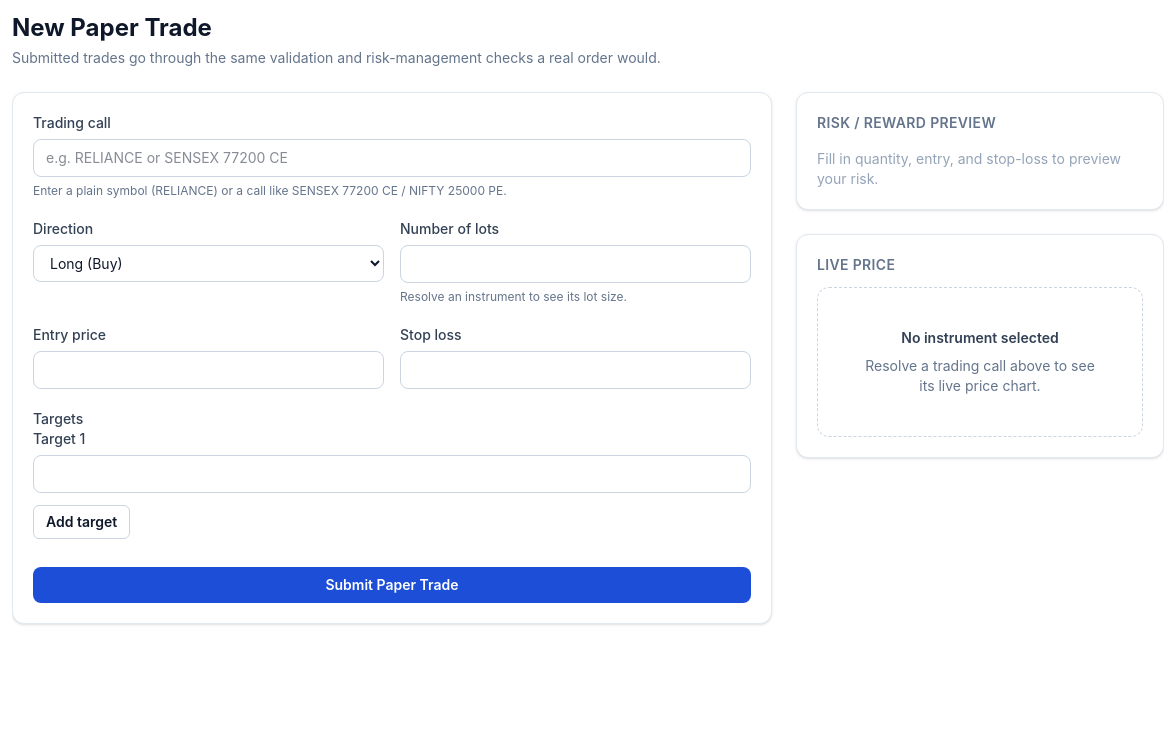
Test case: NewTrade page › shows validation errors and never submits an invalid form
The width and height of the screenshot is (1164, 732).
Click the button "Submit Paper Trade" at (392, 585), box x1=33 y1=567 x2=751 y2=603
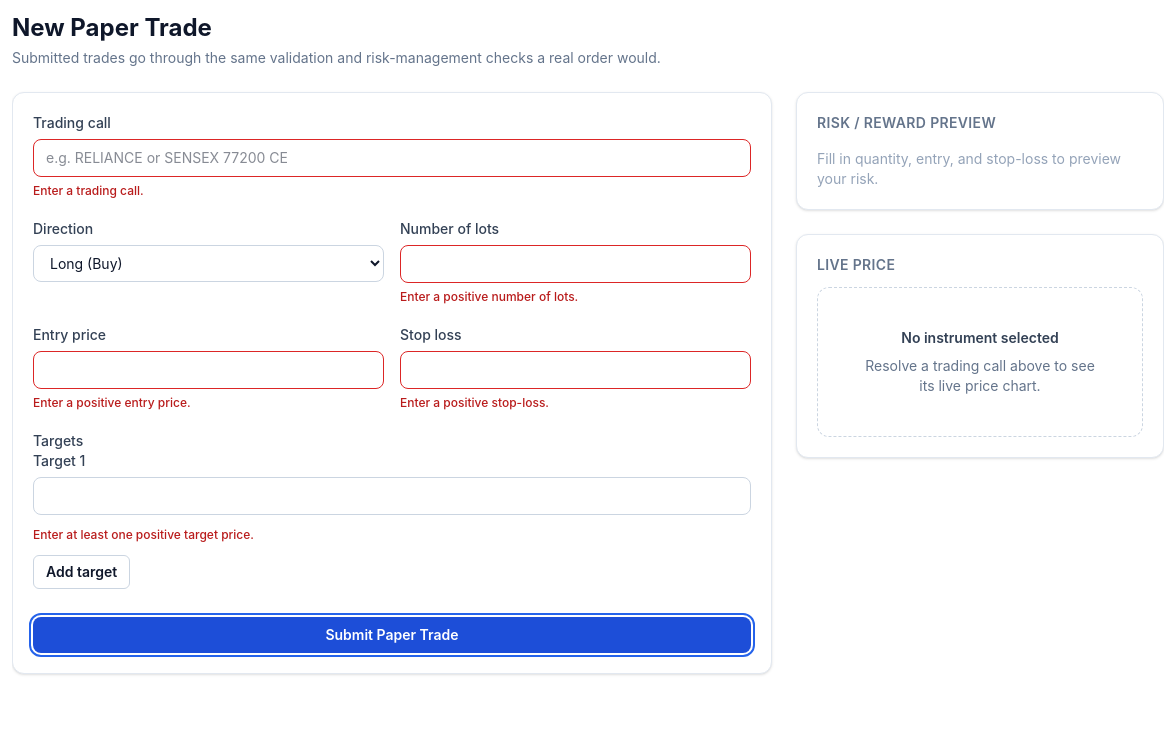
Check: the text "Enter a trading call." is shown, box x1=33 y1=183 x2=144 y2=198
Check: the text "Enter a positive number of lots." is shown, box x1=400 y1=289 x2=578 y2=304
